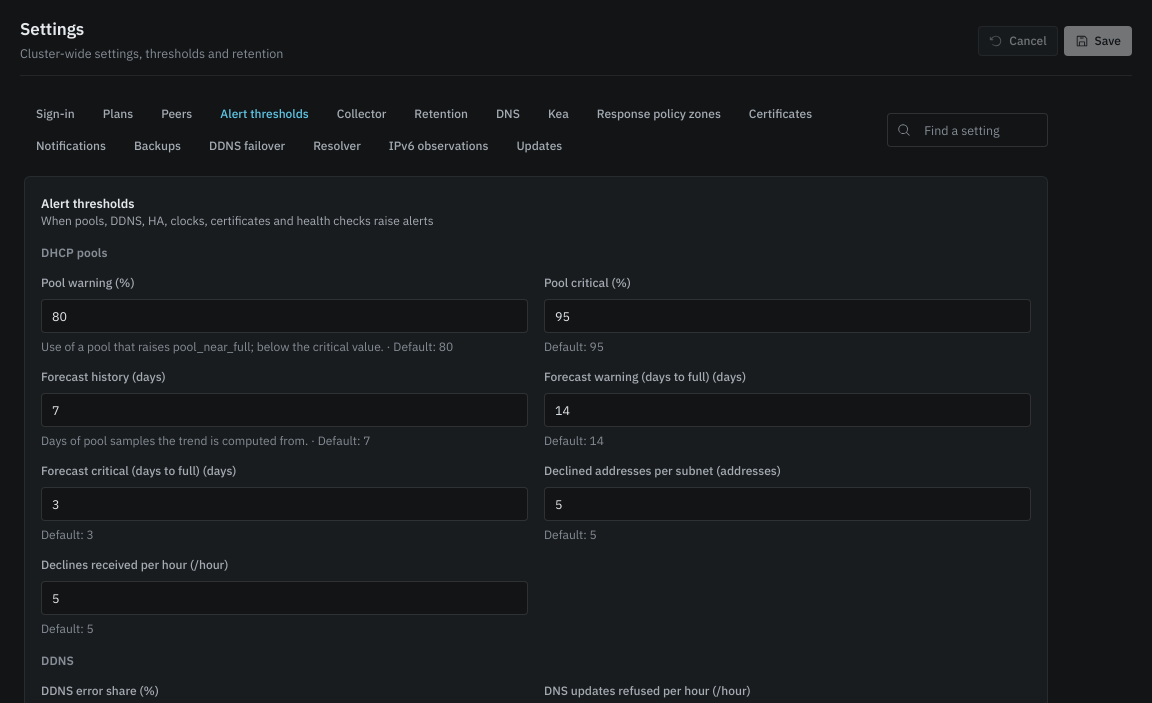
it: SettingsPage › refuses a warning above its critical value, then saves only the change
Step 1. Replace the text in the number field labelled "Pool warning (%)" with "99" → (284, 316), box [41,299,528,333]
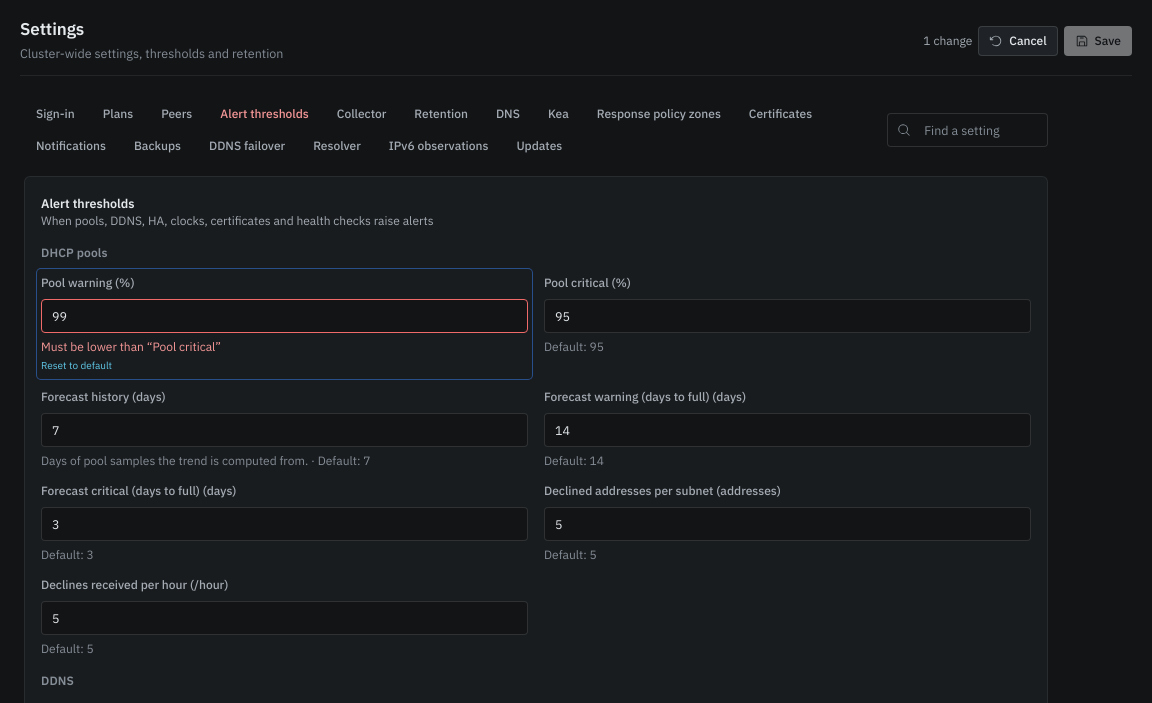
Check: the button with test id "settings-save" is disabled, box [1064,26,1132,56]
Check: the text "Must be lower than “Pool critical”" is shown, box [41,339,221,354]
Step 2. Replace the text in the number field labelled "Pool warning (%)" with "90" → (284, 316), box [41,299,528,333]
(page scrolled)
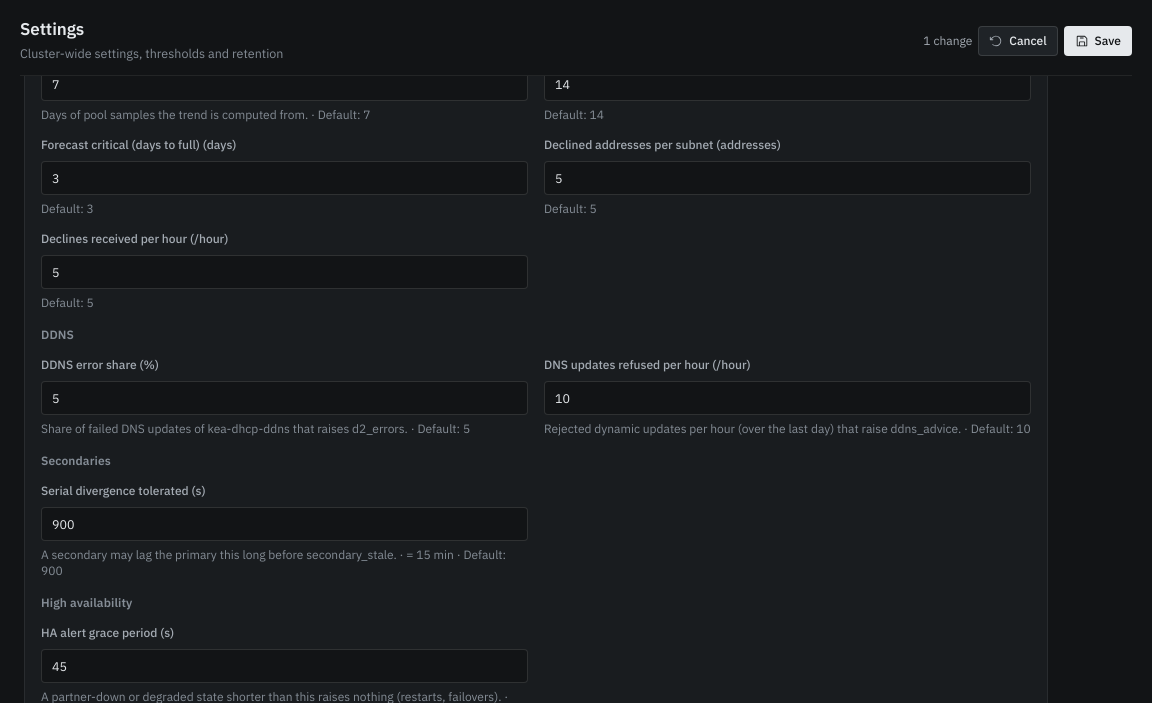
Step 3. Replace the text in the number field labelled "DDNS error share (%)" with "2.5" → (284, 398), box [41,381,528,415]
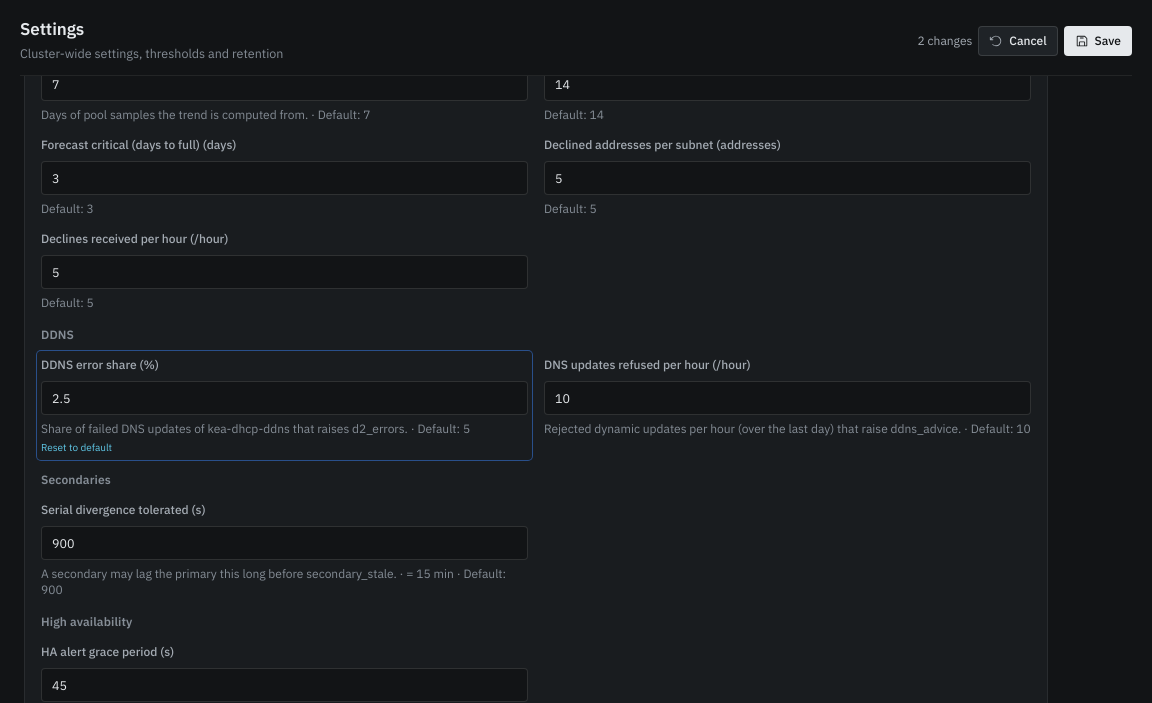
Check: the text with test id "settings-changes" reads "2 changes", box [918,32,972,48]
Step 4. Click the button with test id "settings-save" → (1098, 40), box [1064,26,1132,56]
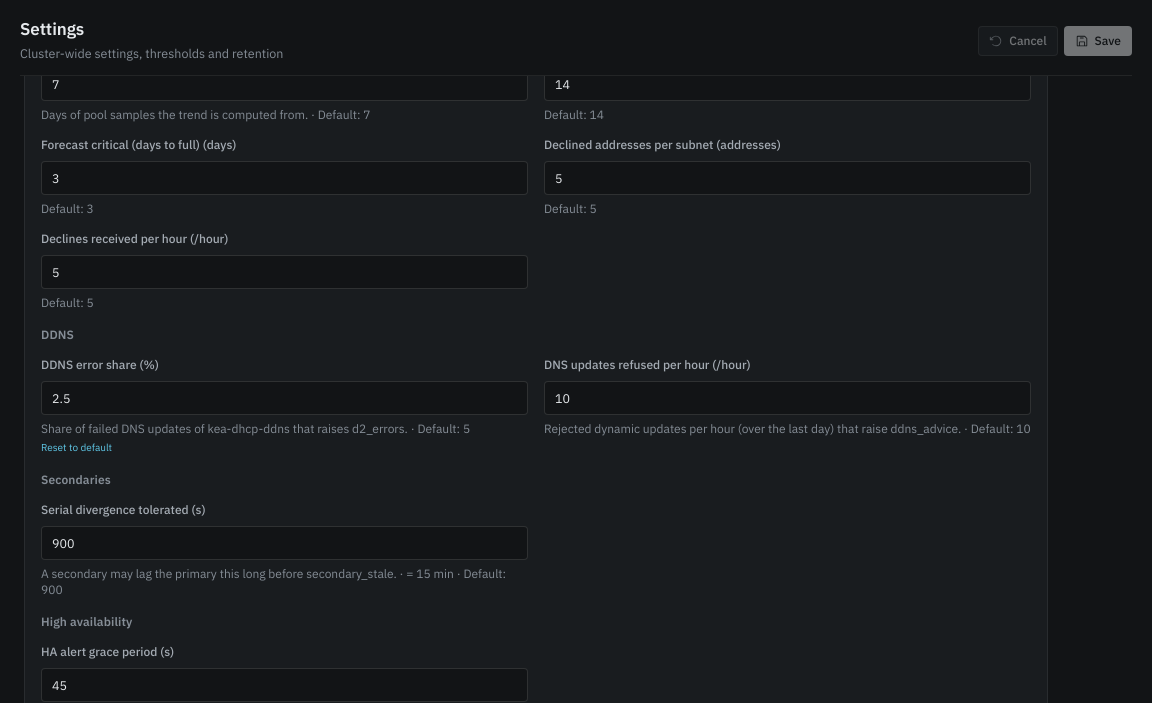
Check: the button with test id "settings-save" is disabled, box [1064,26,1132,56]
